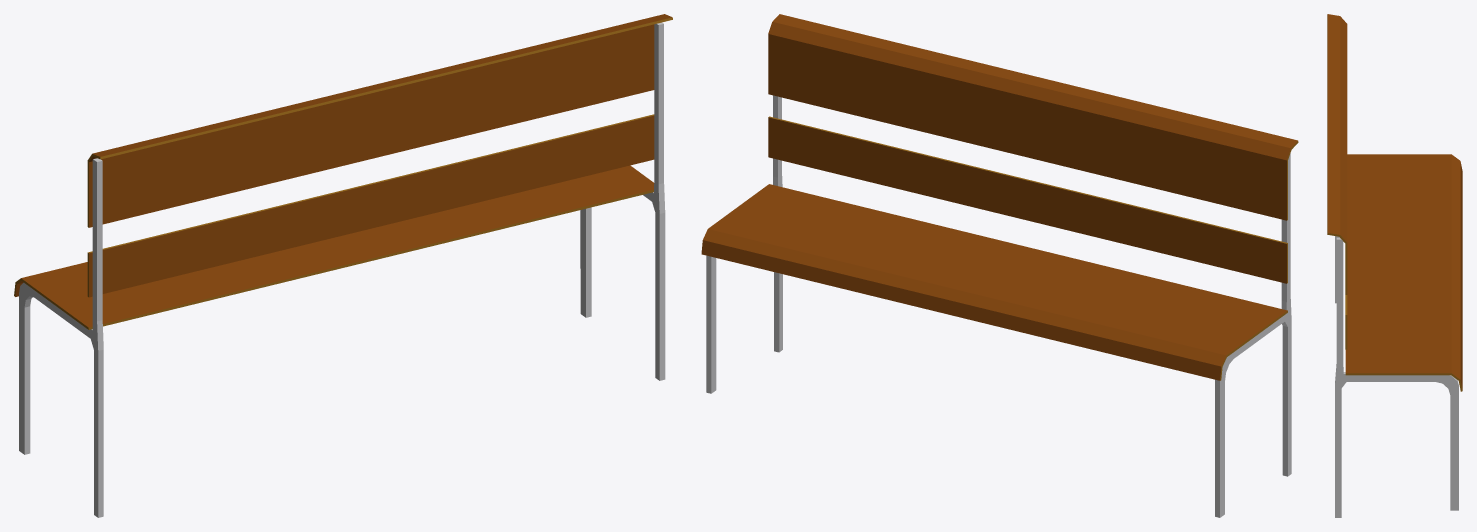
The model's file is Bench.fbx.
3 views of the same model, side by side, from view 1: azimuth 30°, elevation 25°; view 2: azimuth 150°, elevation 25°; view 3: azimuth 270°, elevation 25° (orthographic). The views are drawn at different scales.
Visible parts, largest first — view 1: Bench; view 2: Bench; view 3: Bench.
Part boxes in pixels (x1,y1,x2,y2): Bench: (14, 14, 672, 517); Bench: (701, 14, 1298, 517); Bench: (1327, 14, 1462, 517).
Bounding box in the file's own units: 170 × 103 × 44.43.
Materials: 1 (1 with a texture image).
